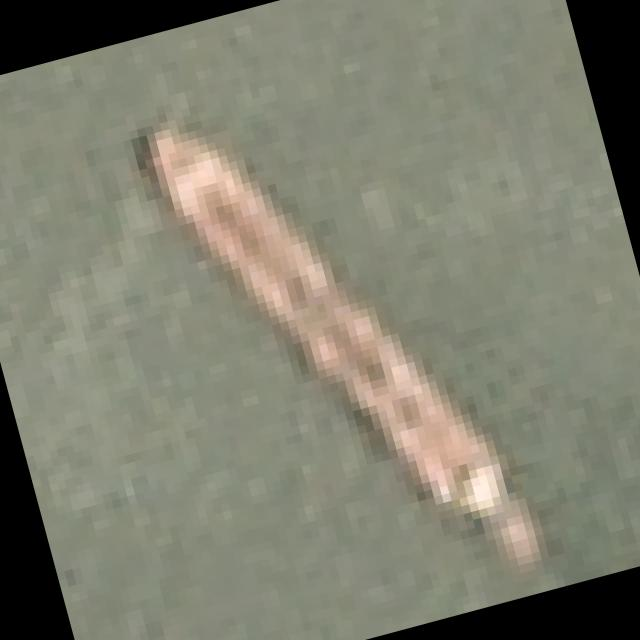ship: (106, 14, 592, 639)
